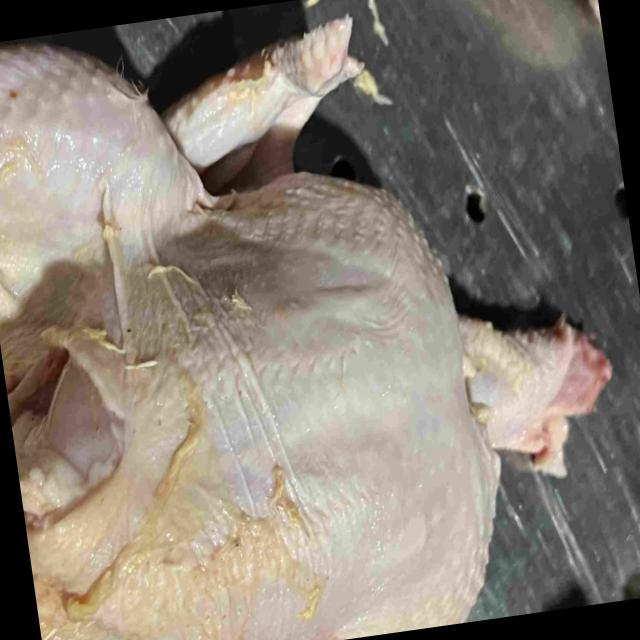breast: (20, 179, 506, 640)
leg: (0, 57, 201, 290)
neck: (458, 322, 610, 483)
wing: (175, 9, 366, 181)
